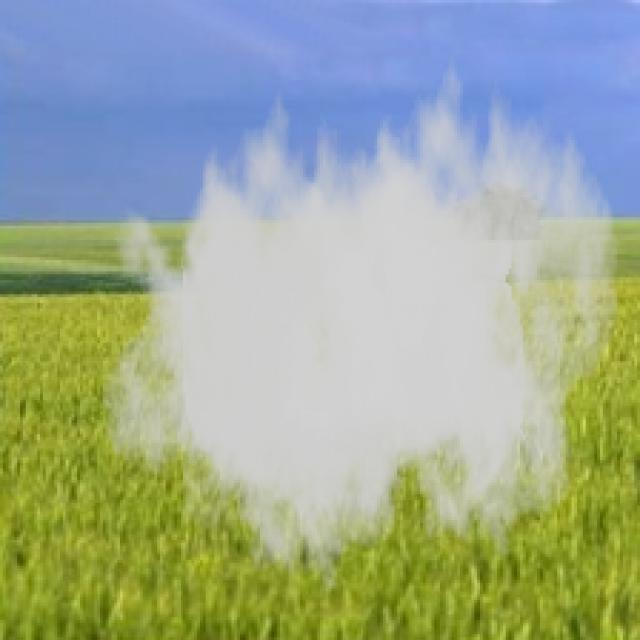smoke: (100, 34, 620, 603)
